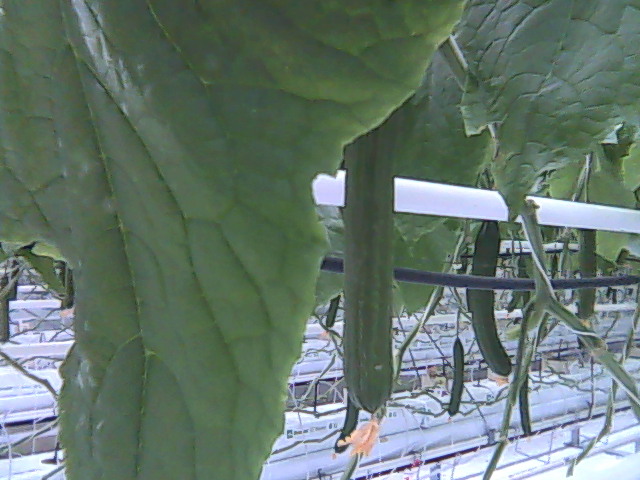concombre: (337, 124, 402, 456)
